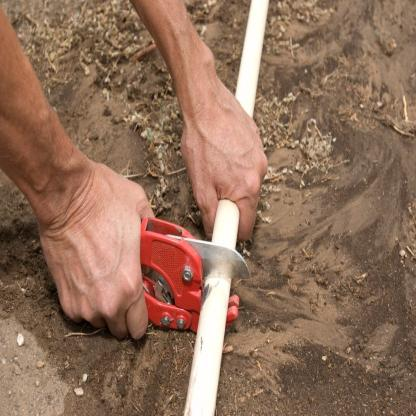PVC: (184, 278, 230, 415), (236, 1, 268, 117), (210, 199, 239, 250)
